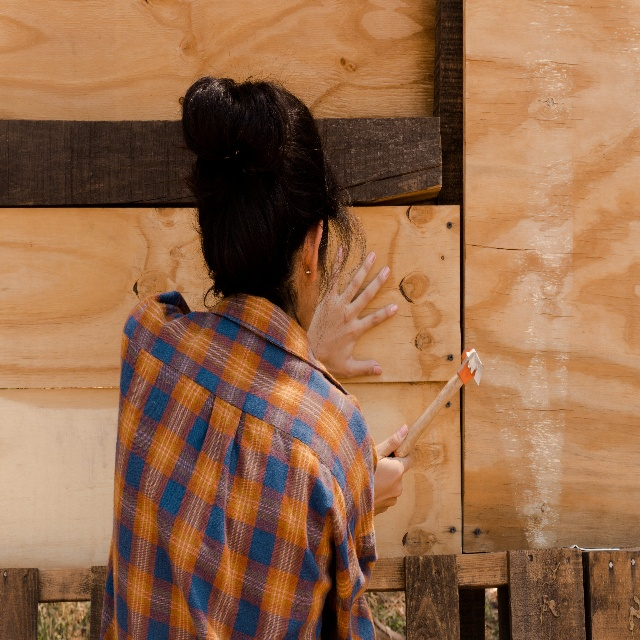Sin_guantes: (306, 242, 397, 378), (372, 424, 413, 515)
